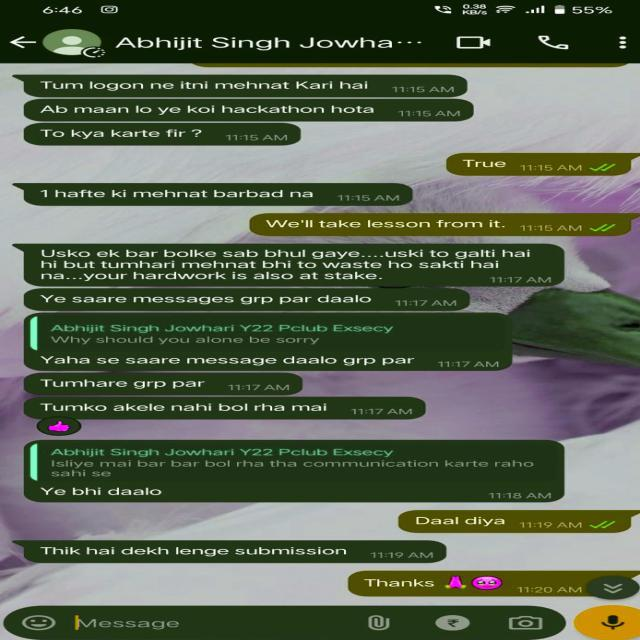scam: (23, 244, 564, 286), (24, 480, 566, 502), (22, 73, 470, 99), (25, 349, 512, 372), (27, 100, 472, 124), (21, 540, 450, 564), (27, 289, 470, 311), (27, 396, 430, 420), (26, 187, 414, 208), (24, 123, 301, 147), (27, 372, 306, 394)
